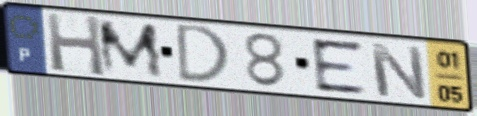8: (241, 31, 288, 90)
D: (175, 21, 233, 84)
E: (308, 36, 370, 95)
H: (43, 11, 109, 79)
M: (95, 19, 167, 80)
N: (366, 40, 431, 102)
